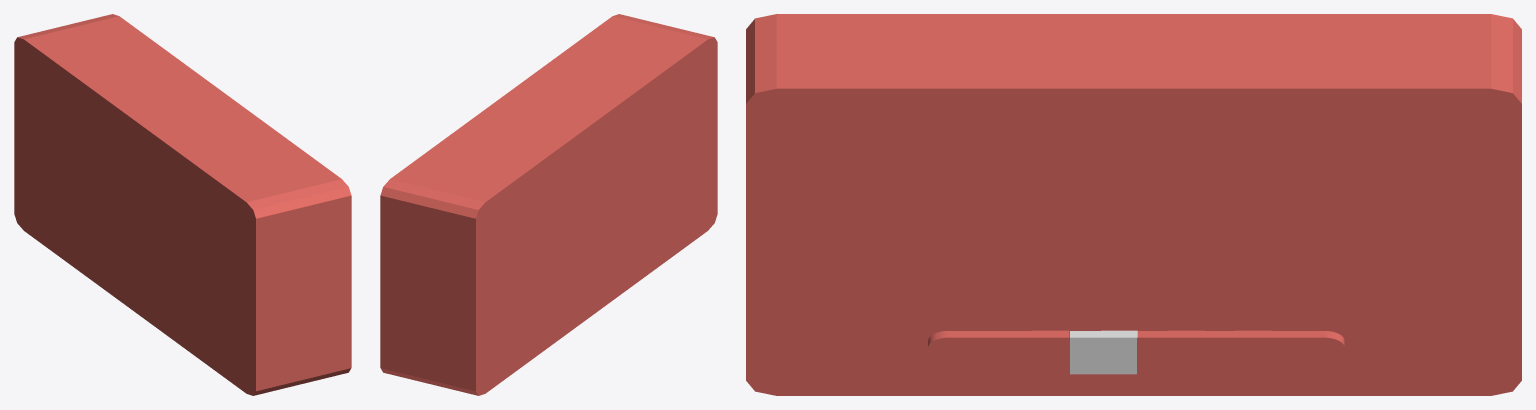
Rendered from Raudio.fbx.
3 renders of one model, left to right at view 1: azimuth 30°, elevation 25°; view 2: azimuth 150°, elevation 25°; view 3: azimuth 270°, elevation 25°, orthographic. The views are drawn at different scales.
Parts seen in each view (by area): view 1: Body; view 2: Body; view 3: Body, Play Button.
Boxes of the visible parts, <box> form: Body: <box>14,14,351,395</box>; Body: <box>380,14,717,395</box>; Body: <box>746,14,1521,395</box>; Play Button: <box>1070,330,1137,374</box>.
Bounding box in the file's own units: 218 × 383 × 877.
